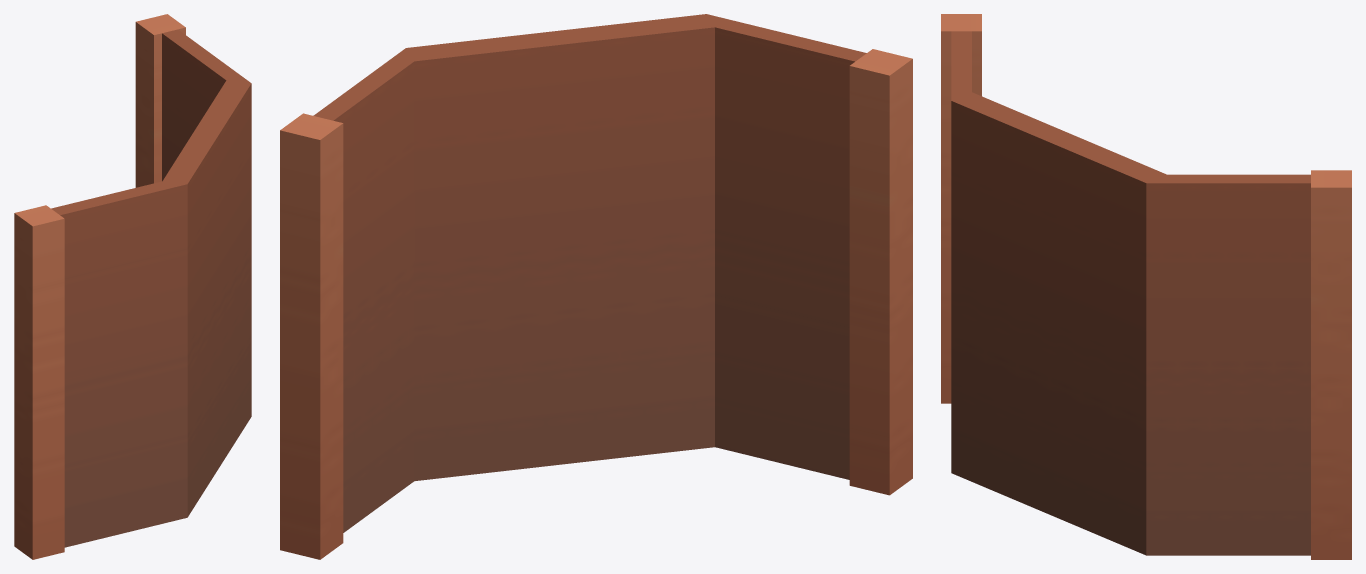
Rendered from wallWoodCornerDiagonal.fbx.
3 views of the same model, side by side, from view 1: azimuth 30°, elevation 25°; view 2: azimuth 150°, elevation 25°; view 3: azimuth 270°, elevation 25° (orthographic). The views are drawn at different scales.
Parts seen in each view (by area): view 1: wallWoodCornerDiagonal; view 2: wallWoodCornerDiagonal; view 3: wallWoodCornerDiagonal.
Part boxes in pixels (left/top/right/bottom): wallWoodCornerDiagonal: left=14, top=14, right=251, bottom=559; wallWoodCornerDiagonal: left=280, top=14, right=912, bottom=559; wallWoodCornerDiagonal: left=941, top=14, right=1351, bottom=559.
Size of the model in its own units: 1 by 1 by 1.
